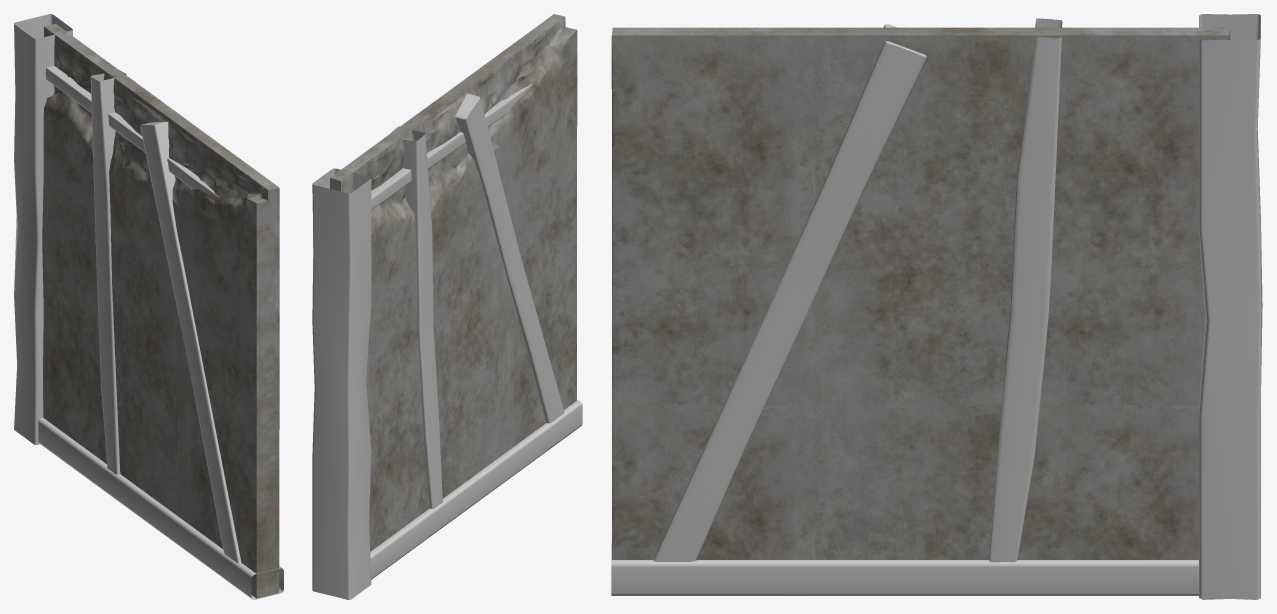
Rendered from SM_Wall35.fbx.
3 renders of one model, left to right at view 1: azimuth 30°, elevation 25°; view 2: azimuth 150°, elevation 25°; view 3: azimuth 270°, elevation 25°, orthographic. The views are drawn at different scales.
Parts seen in each view (by area): view 1: SM_Wall35_LOD0; view 2: SM_Wall35_LOD0; view 3: SM_Wall35_LOD0.
Boxes of the visible parts, bbox=[...] form: SM_Wall35_LOD0: bbox=[14, 14, 283, 599]; SM_Wall35_LOD0: bbox=[312, 14, 582, 599]; SM_Wall35_LOD0: bbox=[611, 14, 1262, 599].
Bounding box in the file's own units: 32.43 × 316 × 300.
